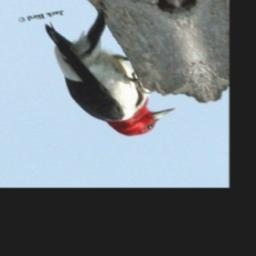Woodpecker: (40, 3, 186, 146)
